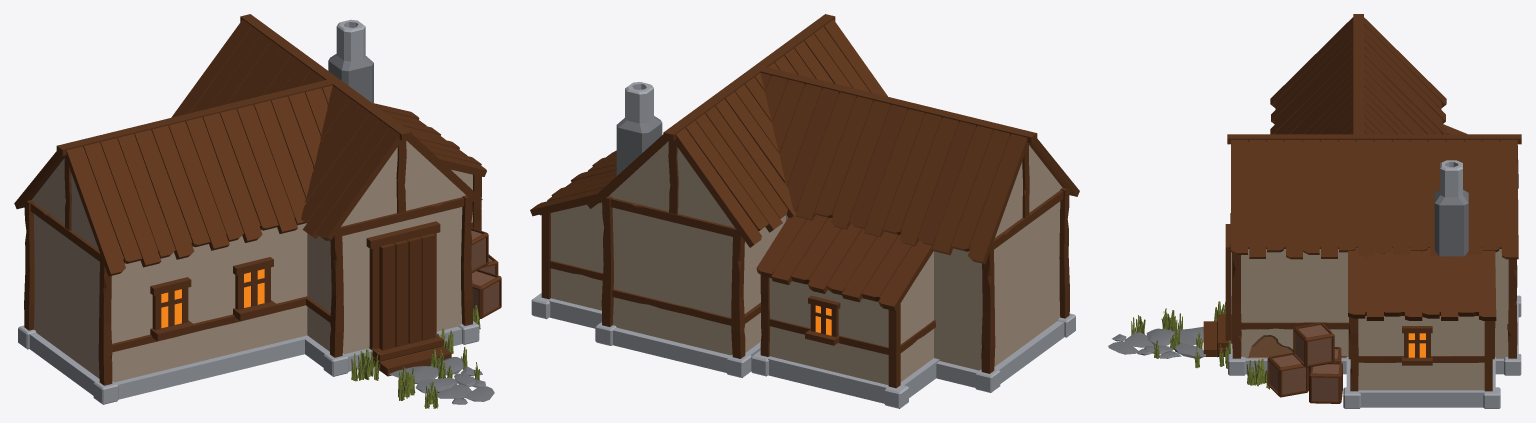
The model's file is LowpolyHouse.fbx.
3 views of the same model, side by side, from view 1: azimuth 30°, elevation 25°; view 2: azimuth 150°, elevation 25°; view 3: azimuth 270°, elevation 25° (orthographic). The views are drawn at different scales.
Visible parts, largest first — view 1: Cube.055, Cube.060, Cube.008, Cube, Cube.013, Cube.056, Cube.006, Cube.059, Cube.012, Sphere.007, Cube.057, Cube.042 (+11 smaller); view 2: Cube.060, Cube, Cube.055, Cube.008, Cube.068, Cube.062, Cube.044, Cube.056, Cube.006, Cube.059, Cube.012, Cube.003 (+10 smaller); view 3: Cube.008, Cube.060, Cube, Cube.044, Cube.014, Cube.003, Cube.012, Cube.006, Sphere.007, Cube.057, Cube.021, Cube.019 (+11 smaller).
Part boxes in pixels (bbox=[...]): Cube.055: bbox=[29, 158, 307, 399]; Cube.060: bbox=[14, 85, 332, 276]; Cube.008: bbox=[171, 19, 482, 240]; Cube: bbox=[302, 141, 465, 371]; Cube.013: bbox=[379, 233, 435, 350]; Cube.056: bbox=[22, 77, 341, 259]; Cube.006: bbox=[323, 195, 479, 376]; Cube.059: bbox=[18, 200, 118, 404]; Cube.012: bbox=[328, 19, 373, 103]; Sphere.007: bbox=[389, 357, 494, 404]; Cube.057: bbox=[351, 305, 480, 408]; Cube.042: bbox=[150, 277, 194, 341]; Cube.060: bbox=[760, 73, 1079, 264]; Cube: bbox=[609, 141, 785, 372]; Cube.055: bbox=[786, 145, 1064, 387]; Cube.008: bbox=[586, 19, 887, 247]; Cube.068: bbox=[768, 251, 939, 403]; Cube.062: bbox=[756, 214, 933, 311]; Cube.044: bbox=[549, 202, 604, 328]; Cube.056: bbox=[751, 65, 1071, 247]; Cube.006: bbox=[595, 196, 751, 377]; Cube.059: bbox=[975, 187, 1075, 392]; Cube.012: bbox=[616, 82, 662, 175]; Cube.003: bbox=[599, 14, 835, 237]; Cube.008: bbox=[1231, 140, 1518, 259]; Cube.060: bbox=[1270, 17, 1446, 134]; Cube: bbox=[1231, 249, 1518, 374]; Cube.044: bbox=[1346, 316, 1495, 407]; Cube.014: bbox=[1348, 248, 1496, 320]; Cube.003: bbox=[1227, 134, 1521, 248]; Cube.012: bbox=[1434, 160, 1468, 257]; Cube.006: bbox=[1228, 253, 1521, 375]; Sphere.007: bbox=[1108, 327, 1206, 358]; Cube.057: bbox=[1131, 301, 1269, 389]; Cube.021: bbox=[1293, 322, 1334, 367]; Cube.019: bbox=[1267, 352, 1308, 397].
Size of what is drawn, in the model's own units: 945 by 502 by 869.
